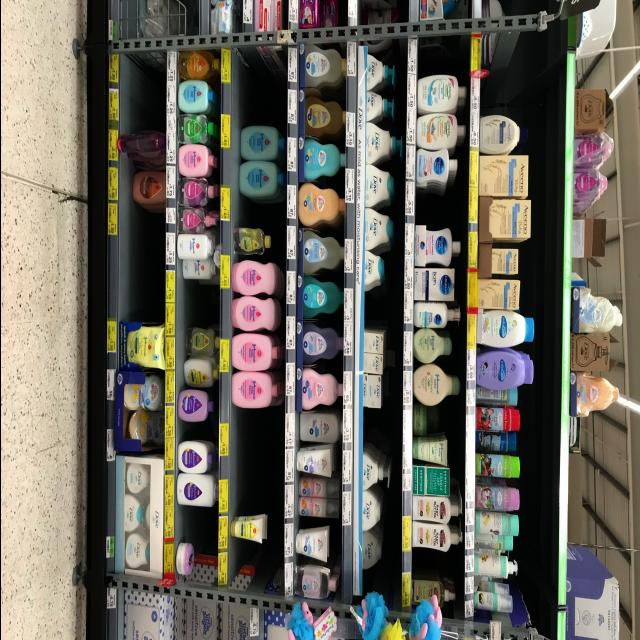empty_space: (231, 412, 281, 512), (125, 217, 162, 315), (483, 70, 541, 114), (121, 77, 167, 131), (236, 72, 280, 128), (177, 289, 213, 327), (418, 193, 458, 227), (410, 551, 454, 577), (177, 506, 215, 534), (361, 293, 395, 321), (362, 410, 390, 442), (237, 205, 275, 223)
